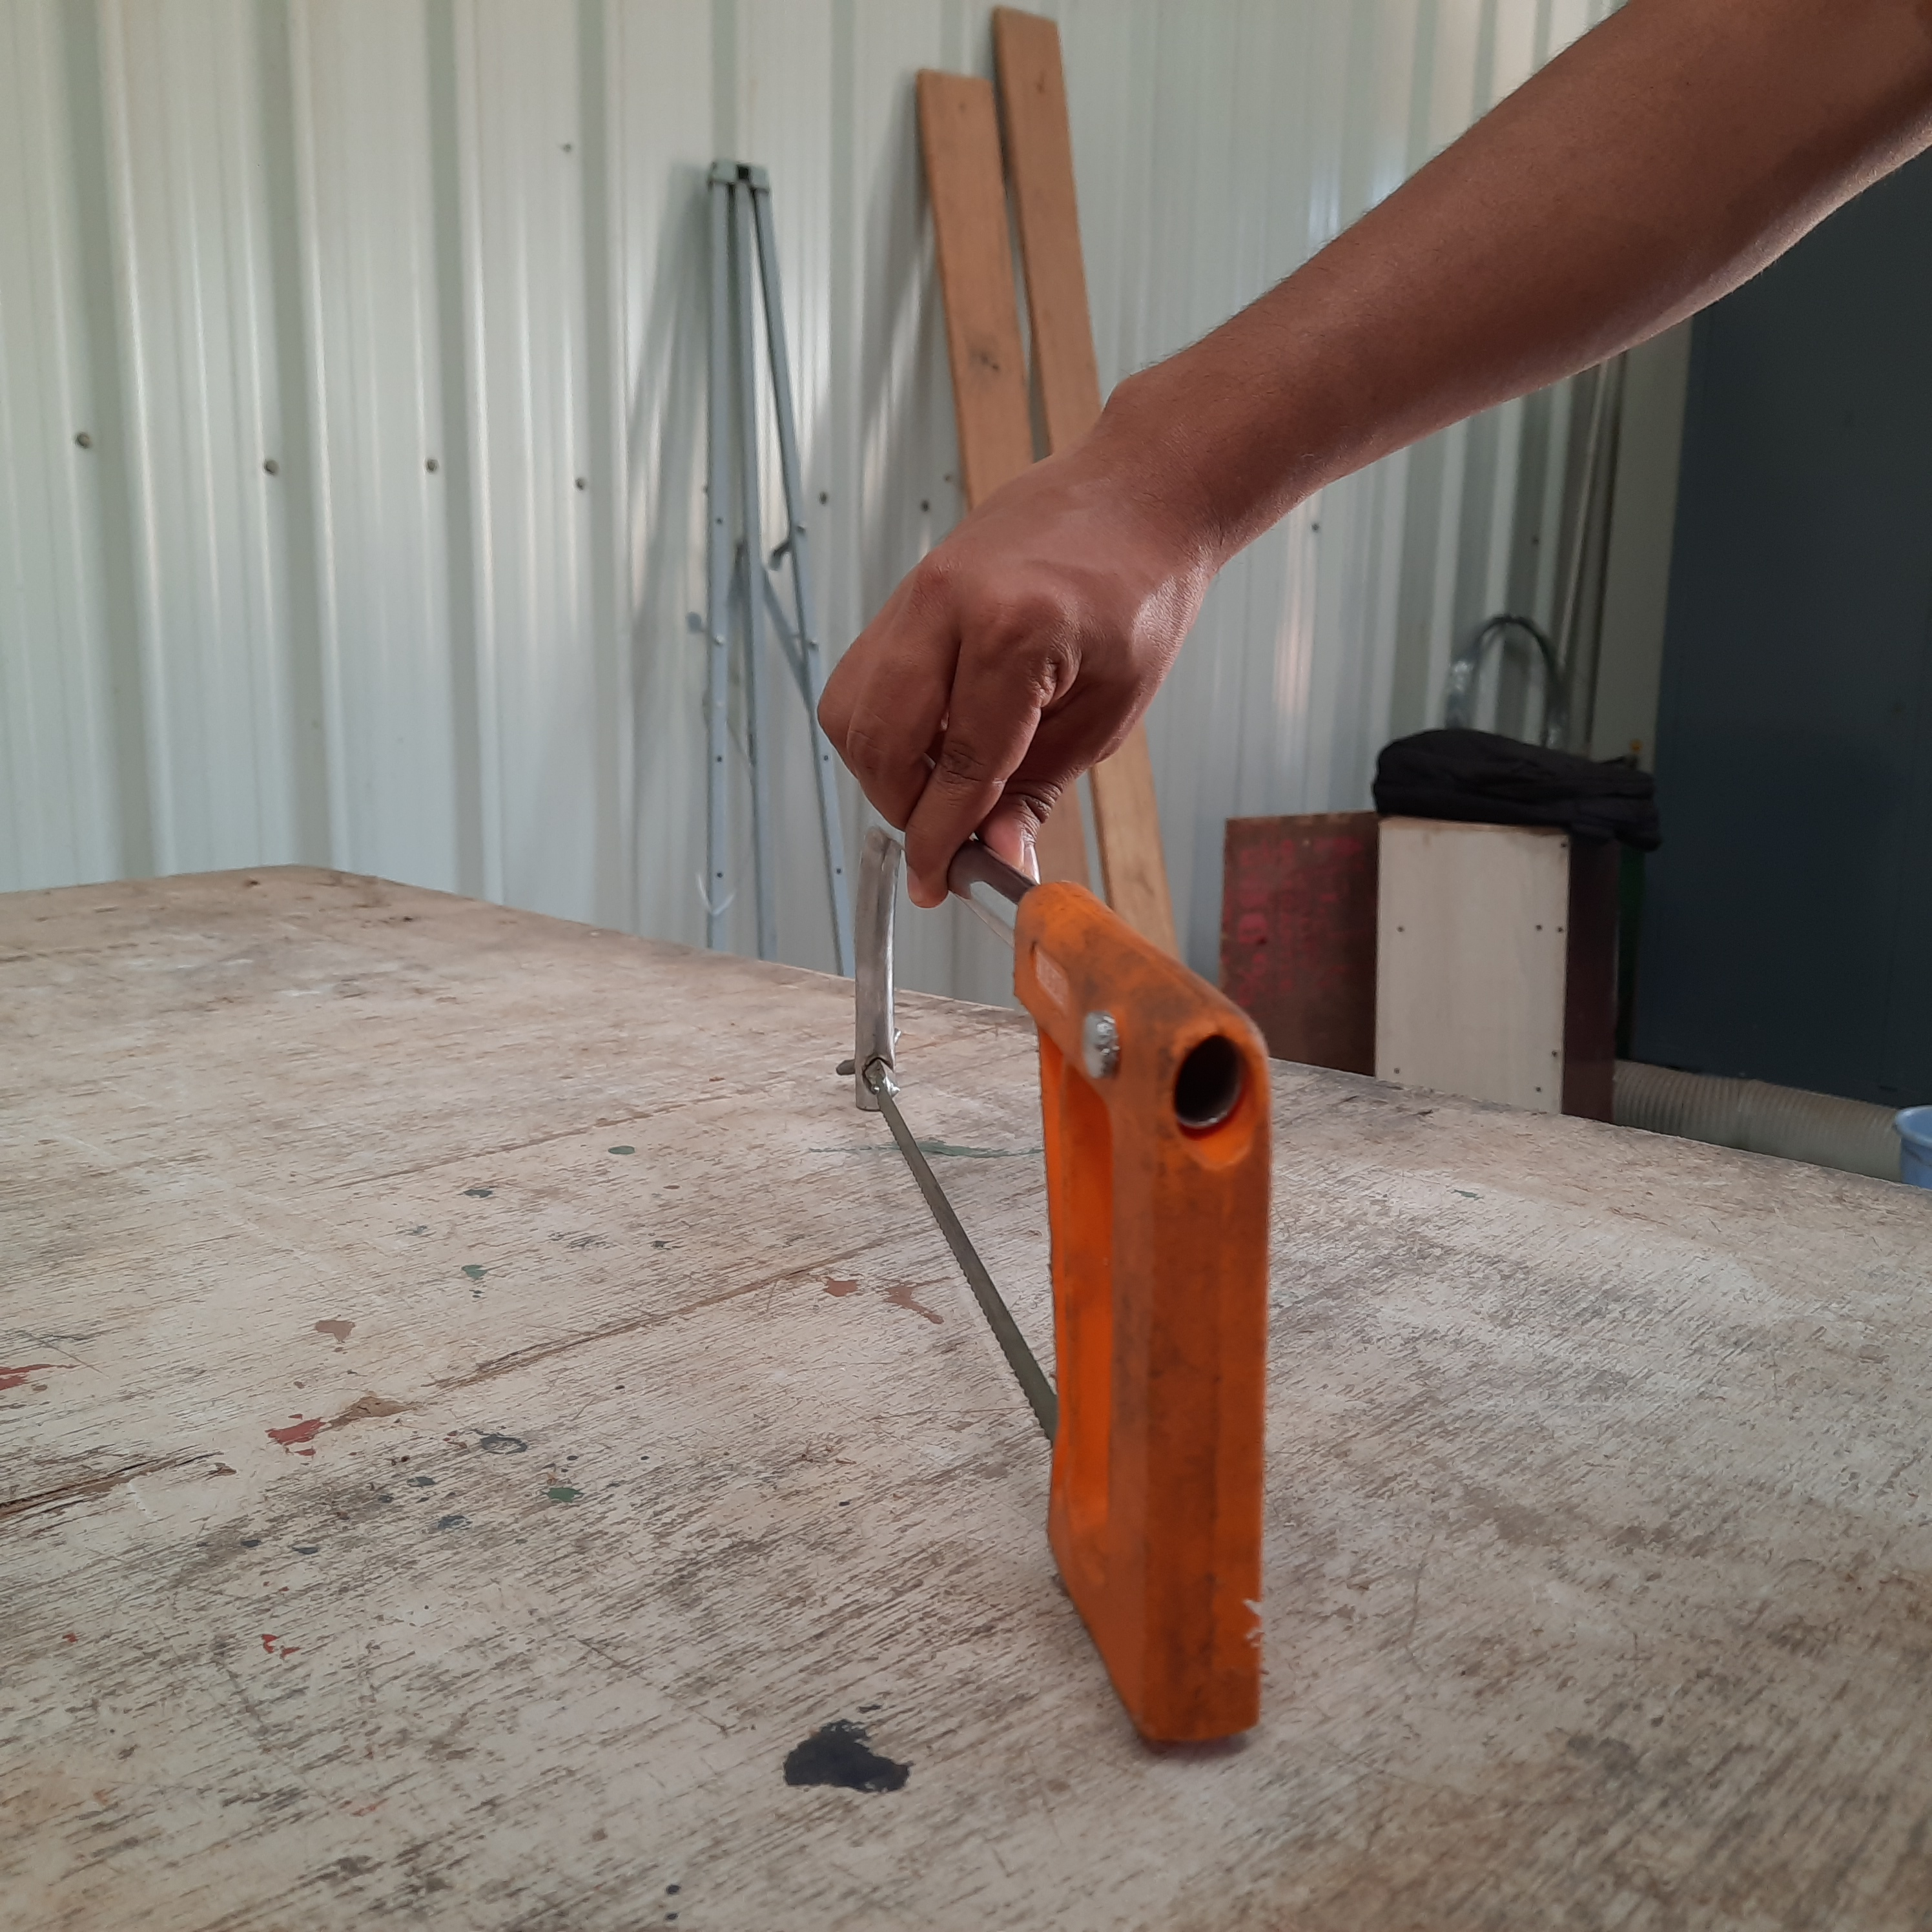Hexaframe: (810, 775, 1346, 1782)
